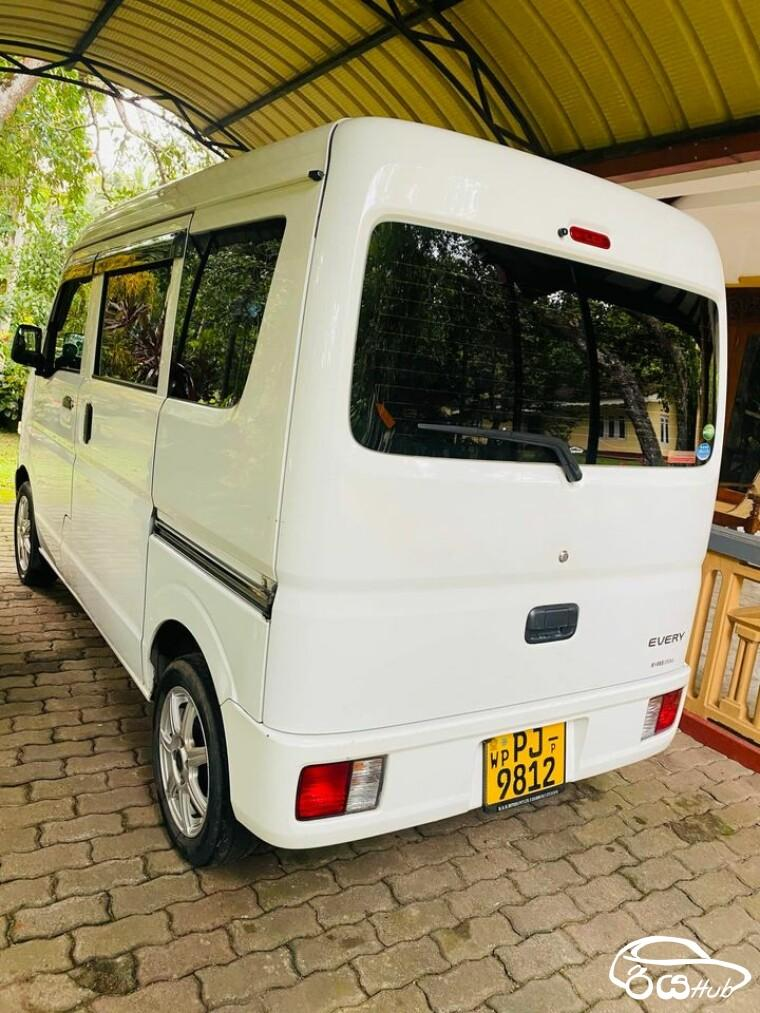van: (13, 114, 726, 871)
